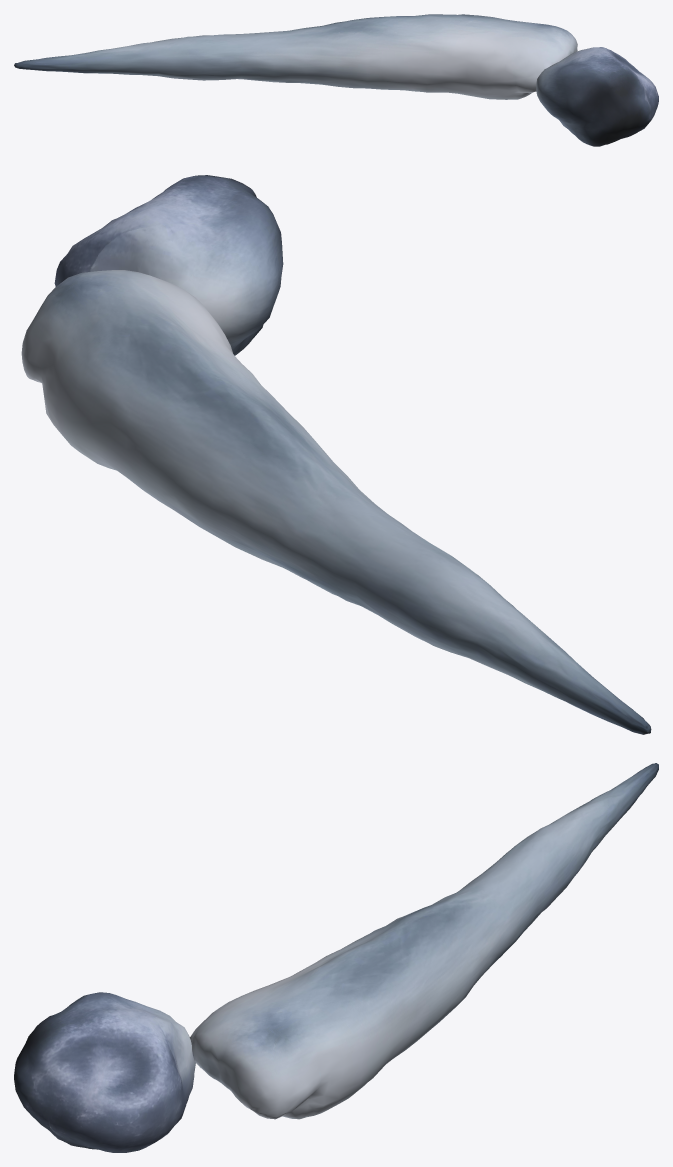
Rendered from comet-blue.glb.
3 views of the same model, one above another, from view 1: azimuth 30°, elevation 25°; view 2: azimuth 150°, elevation 25°; view 3: azimuth 270°, elevation 25° (orthographic). The views are drawn at different scales.
Visible parts, largest first — view 1: Blue Ice Comet; view 2: Blue Ice Comet; view 3: Blue Ice Comet.
Boxes of the visible parts, box(x1,y1,x2,y2) form: Blue Ice Comet: box(14, 14, 658, 146); Blue Ice Comet: box(21, 175, 651, 734); Blue Ice Comet: box(14, 763, 658, 1152).
Size of the model in its own units: 0.998 by 0.166 by 0.7754.
1 material, 1 textured.
